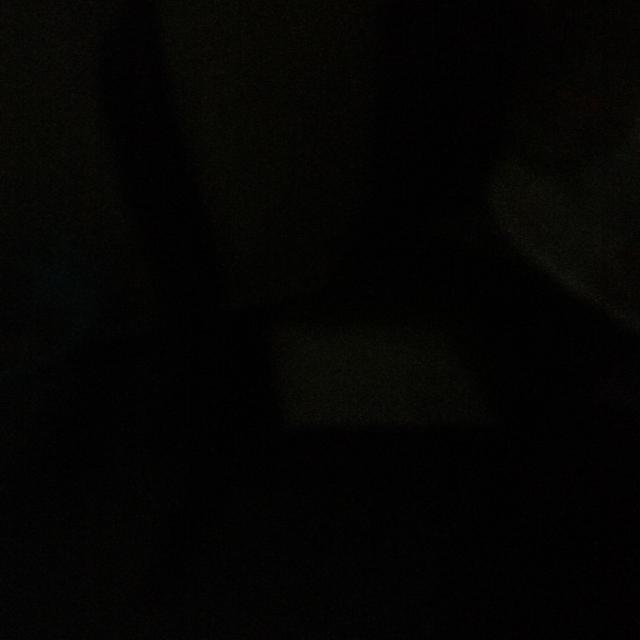Table: (447, 98, 640, 433)
chair: (19, 12, 526, 587)
